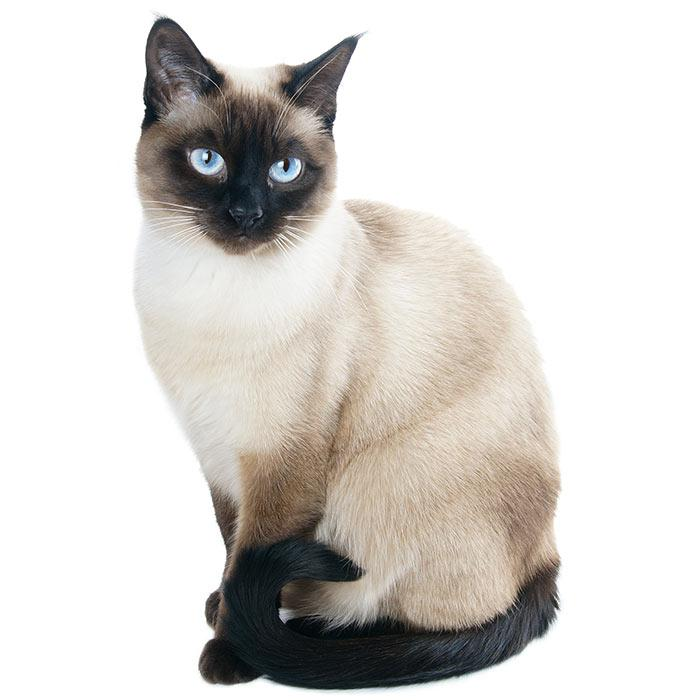siamese: (128, 14, 369, 269)
